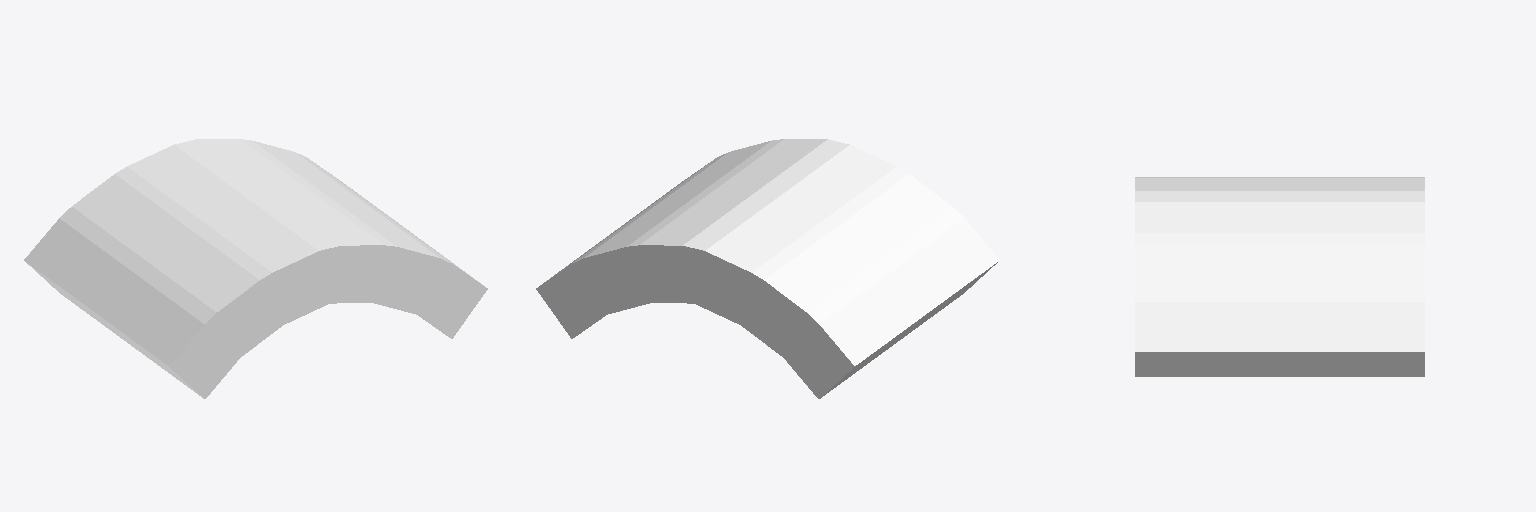
The model's file is smooth_segmental_arch_1.obj.
The picture shows the model from 3 angles: view 1: azimuth 30°, elevation 25°; view 2: azimuth 150°, elevation 25°; view 3: azimuth 270°, elevation 25°; orthographic projection.
Visible parts, largest first — view 1: cube.002; view 2: cube.002; view 3: cube.002.
Part boxes in pixels (bbox=[...]): cube.002: bbox=[24, 139, 487, 398]; cube.002: bbox=[536, 139, 999, 398]; cube.002: bbox=[1135, 177, 1424, 376].
Bounding box in the file's own units: 1.29 × 0.4689 × 1.02.